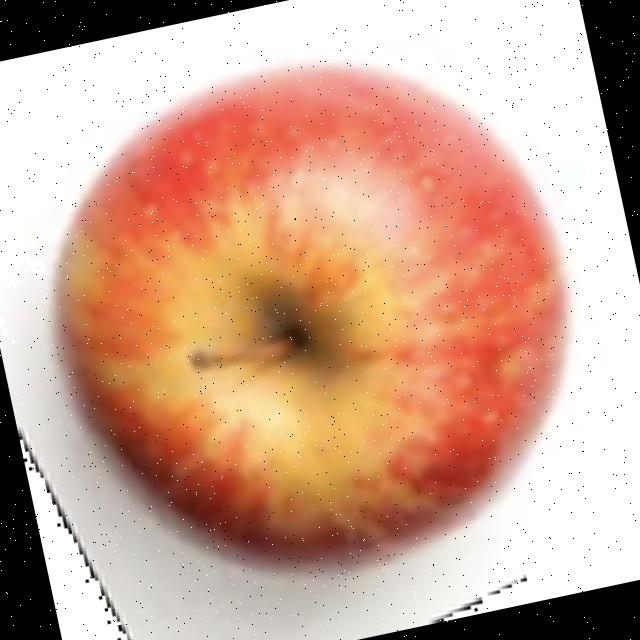apple: (15, 54, 578, 640)
